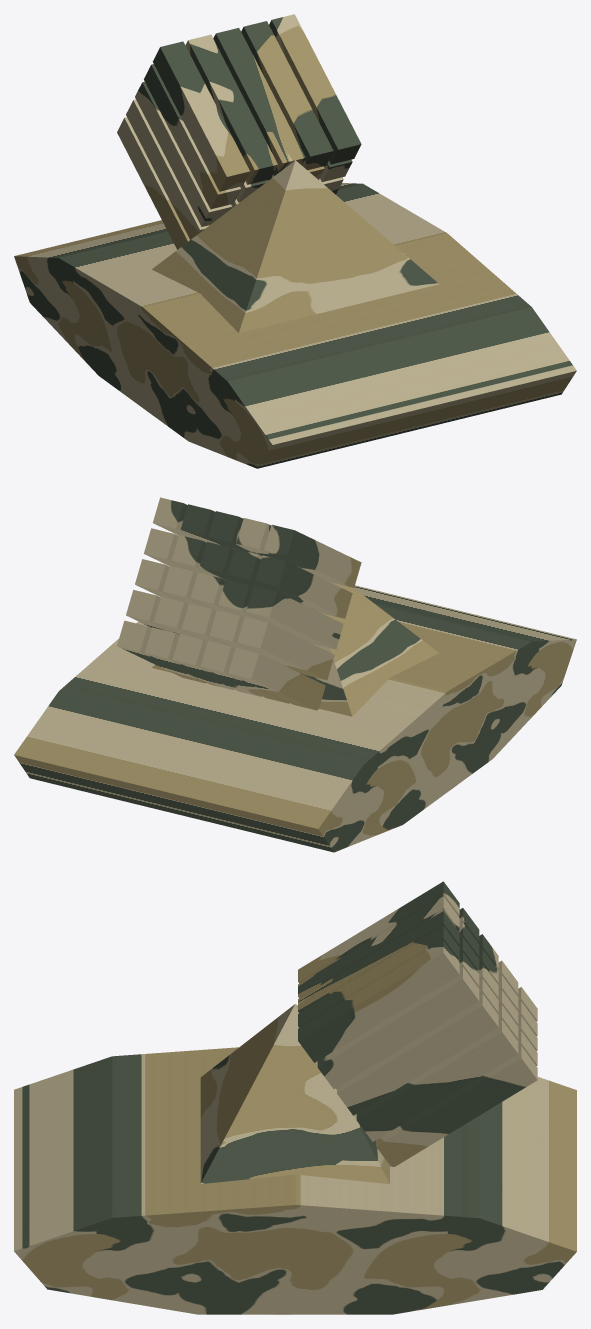
The model's file is Cleaner.fbx.
3 views of the same model, one above another, from view 1: azimuth 30°, elevation 25°; view 2: azimuth 150°, elevation 25°; view 3: azimuth 270°, elevation 25° (orthographic). The views are drawn at different scales.
Visible parts, largest first — view 1: chassis, turret; view 2: chassis, turret; view 3: chassis, turret.
Boxes of the visible parts, x1,y1,x2,y2 form: chassis: (14, 183, 576, 468); turret: (117, 14, 438, 332); chassis: (14, 585, 576, 852); turret: (117, 497, 438, 716); chassis: (14, 1047, 576, 1314); turret: (200, 881, 537, 1184).
Bounding box in the file's own units: 656 × 599 × 965.
